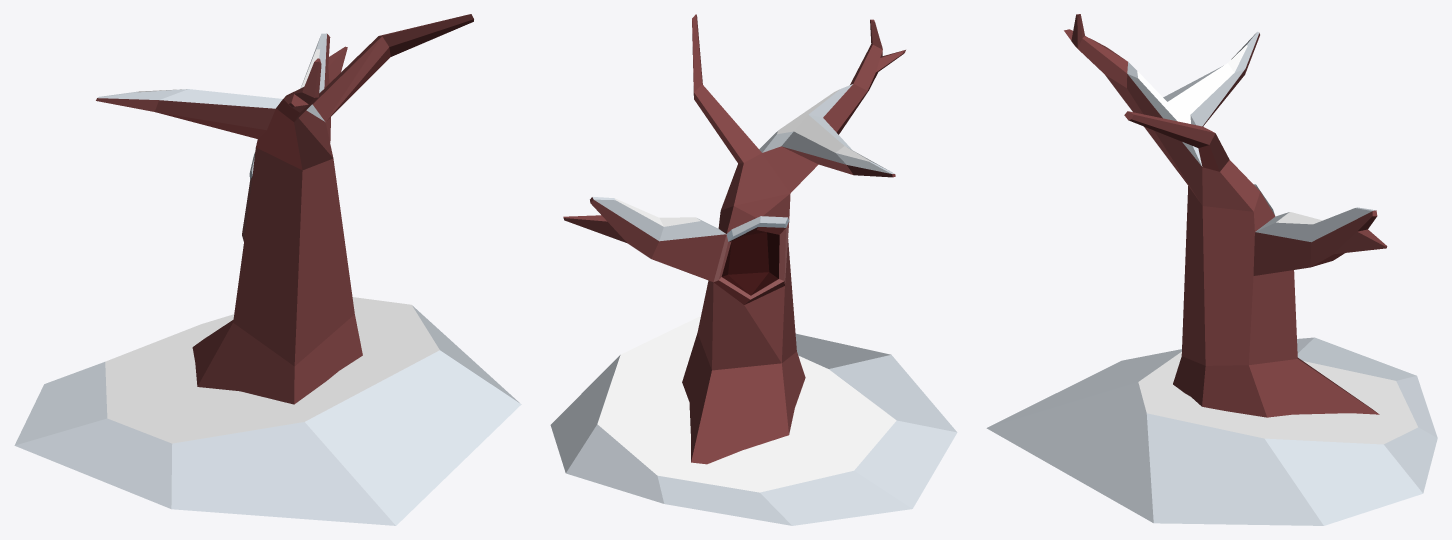
The model's file is TreeWinter10_Alt3.fbx.
The picture shows the model from 3 angles, left to right: view 1: azimuth 30°, elevation 25°; view 2: azimuth 150°, elevation 25°; view 3: azimuth 270°, elevation 25°; orthographic projection. The views are drawn at different scales.
Parts seen in each view (by area): view 1: TreeWinter10_Alt3; view 2: TreeWinter10_Alt3; view 3: TreeWinter10_Alt3.
Boxes of the visible parts, box(x1,y1,x2,y2) form: TreeWinter10_Alt3: box(14, 14, 521, 525); TreeWinter10_Alt3: box(550, 14, 957, 525); TreeWinter10_Alt3: box(986, 14, 1437, 525).
Size of the model in its own units: 1.57 by 1.57 by 1.59.
